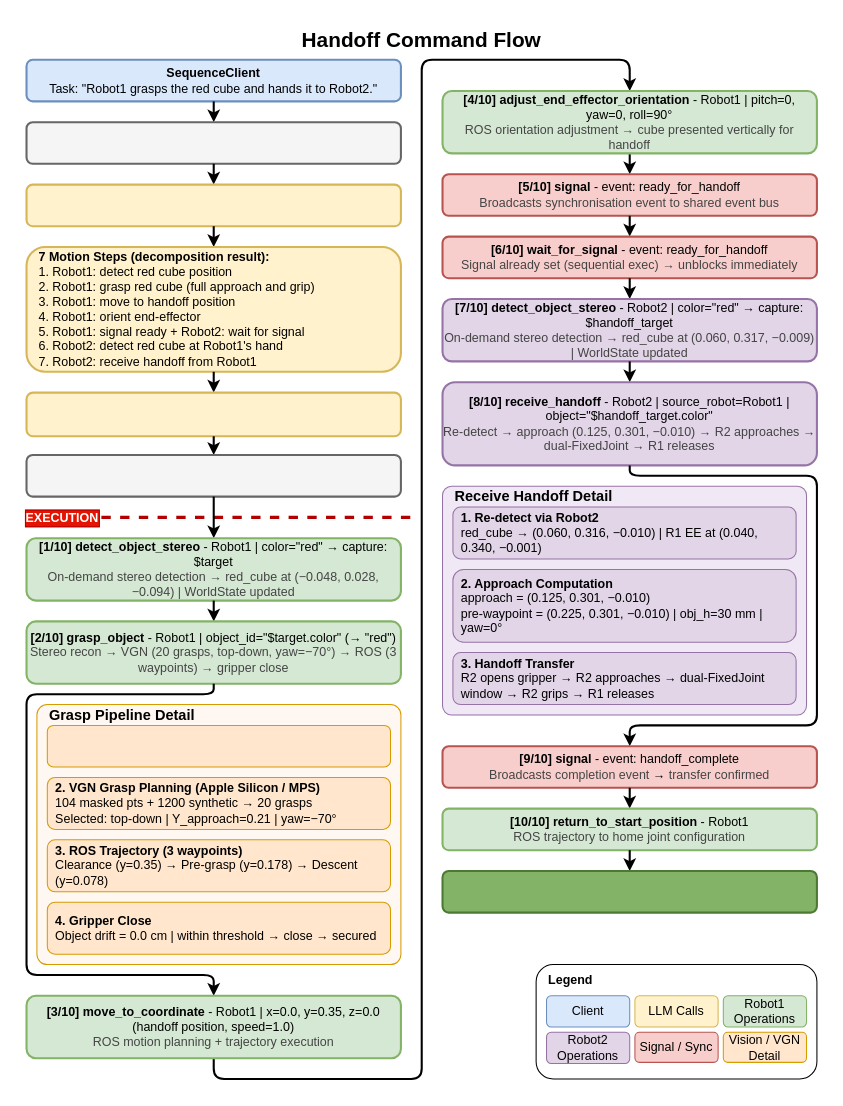
Image size: 843x1106. Some labels were removed from this diagram. The box of each missing label's shape, as (x1, y1, x2, y2) in pixels:
1. Stereo Reconstruction 50,000 pt cloud | fov=45° | baseline=5 cm: (46, 724, 391, 767)
10 Commands Validated → Sequence Starts: (25, 453, 401, 497)
LLM - CommandParser Parse 7 steps → 10 JSON operation commands: (25, 391, 401, 437)
LLM - Motion Layer Decompose task into motion steps (RAG embedding + LLM call): (25, 183, 401, 227)
Sequence Complete: 10/10 commands: (441, 869, 817, 913)
SequenceServer:5008 receives sequence query: (25, 121, 401, 164)
